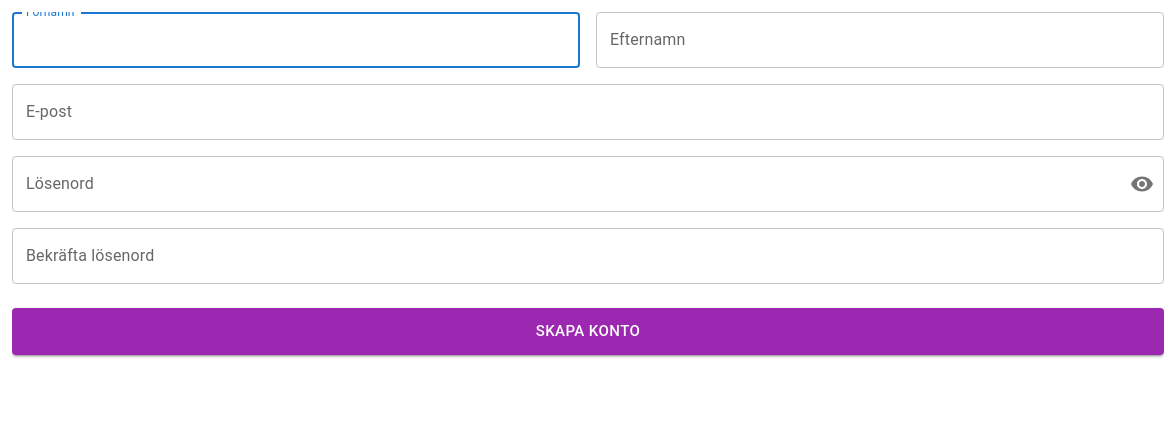
Test: RegisterForm › should show validation error for short password
The width and height of the screenshot is (1176, 444).
Type "Ab1!" into the password field labelled "Lösenord" at point(563, 184), box [12,156,1114,212]
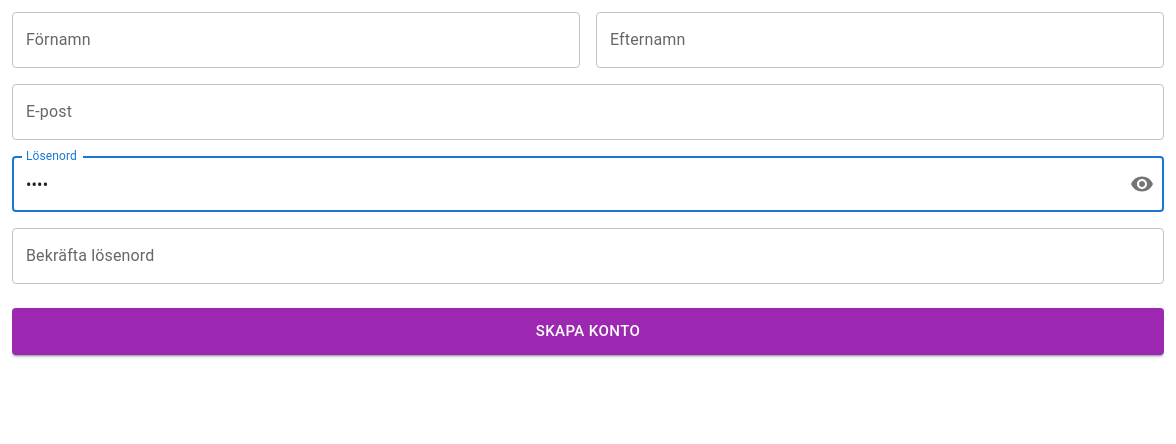
Click the button "Skapa konto" at point(588, 332), box [12,308,1164,355]
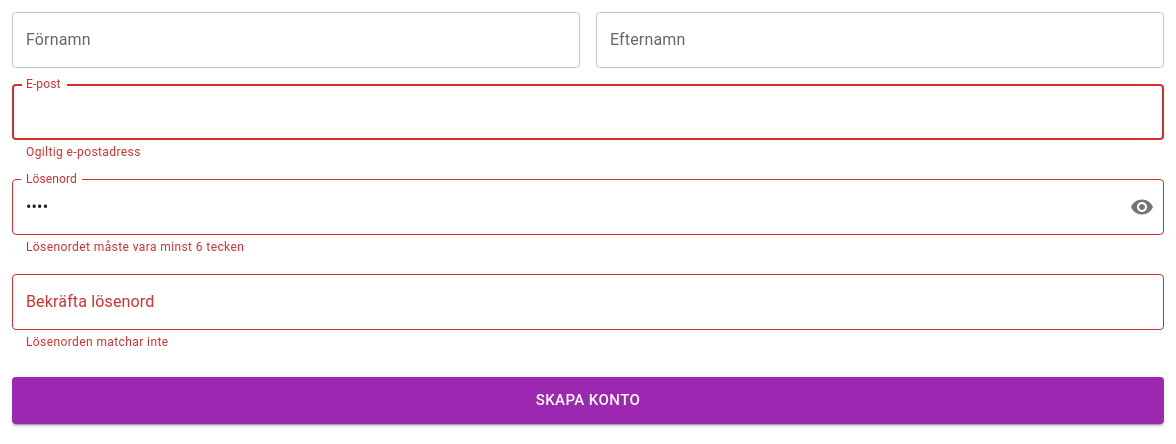
Expected: the text "Lösenordet måste vara minst 6 tecken" is shown, [26,240,244,254]
